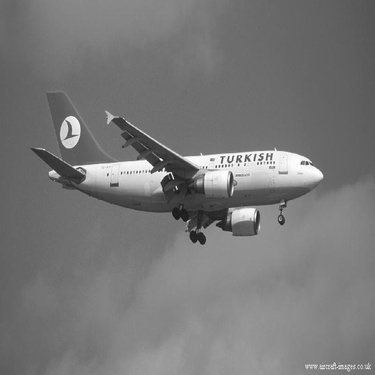airplane: (15, 60, 338, 254)
